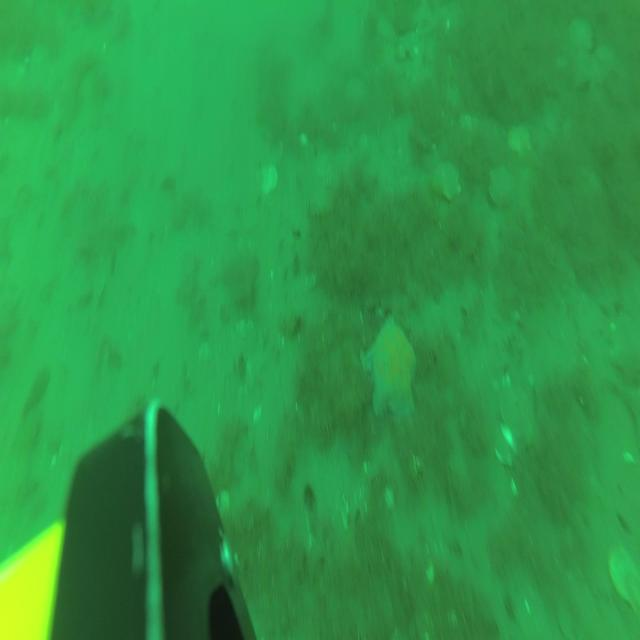scallop: (606, 540, 640, 619), (497, 382, 529, 441), (429, 160, 463, 202), (487, 164, 517, 209), (568, 11, 595, 55), (509, 121, 532, 156), (257, 164, 279, 199)
starfish: (360, 313, 418, 421)
